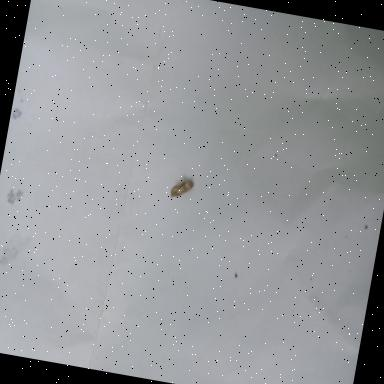pbw: (169, 178, 194, 202)
